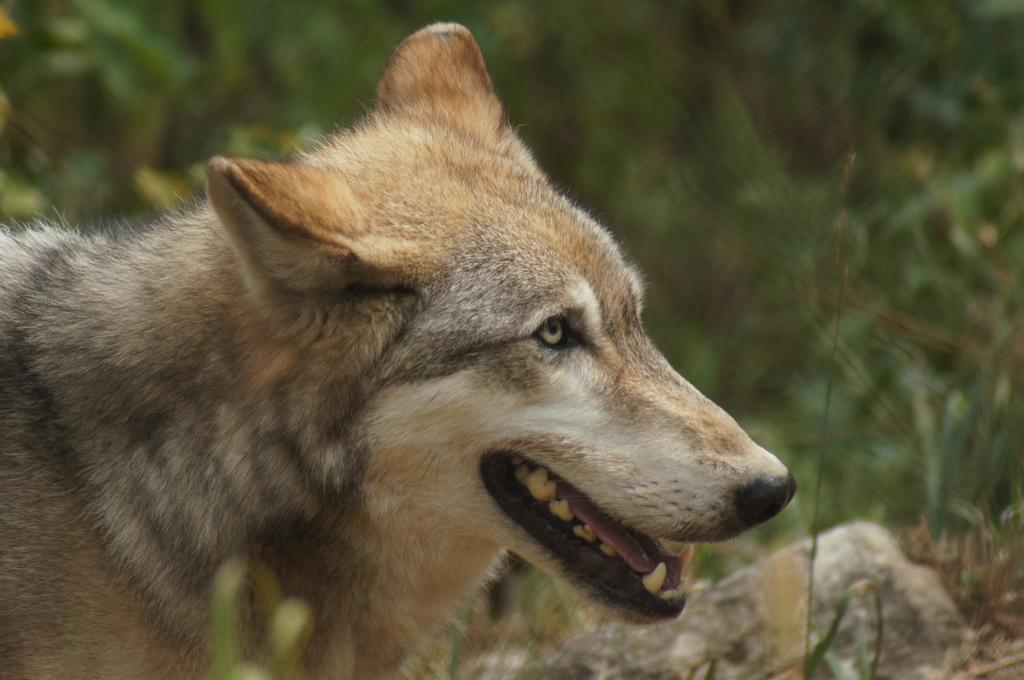Wolf: (1, 23, 798, 680)
